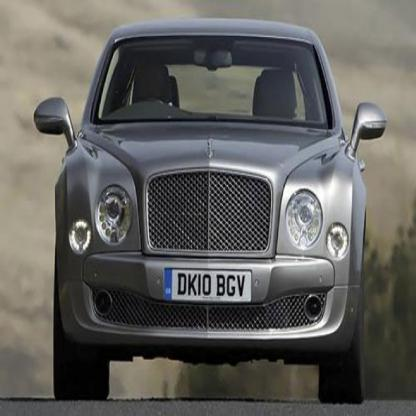Vehicle: (35, 24, 387, 402)
